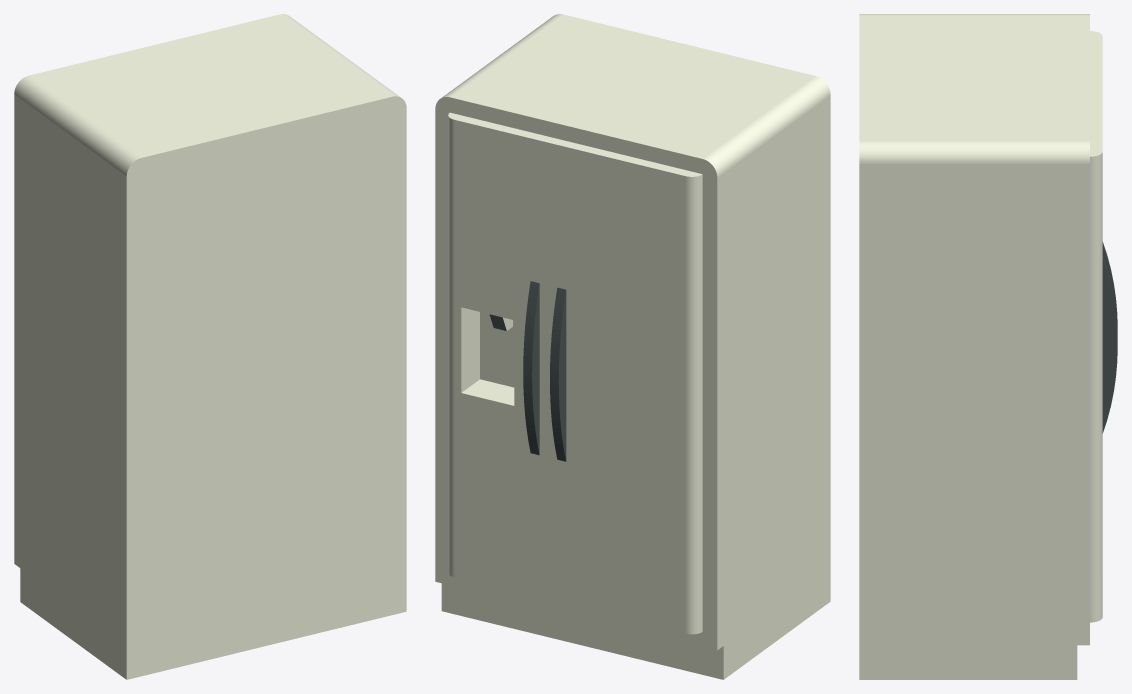
The model's file is Furniture_Fridge_DoubleDoor.fbx.
The picture shows the model from 3 angles, left to right: view 1: azimuth 30°, elevation 25°; view 2: azimuth 150°, elevation 25°; view 3: azimuth 270°, elevation 25°; orthographic projection. The views are drawn at different scales.
Parts seen in each view (by area): view 1: kitchenFridgeLarge; view 2: kitchenFridgeLarge; view 3: kitchenFridgeLarge.
Part boxes in pixels (x1,y1,x2,y2): kitchenFridgeLarge: (14, 14, 406, 679); kitchenFridgeLarge: (435, 14, 830, 679); kitchenFridgeLarge: (859, 14, 1117, 679).
Bounding box in the file's own units: 145 × 256 × 113.
